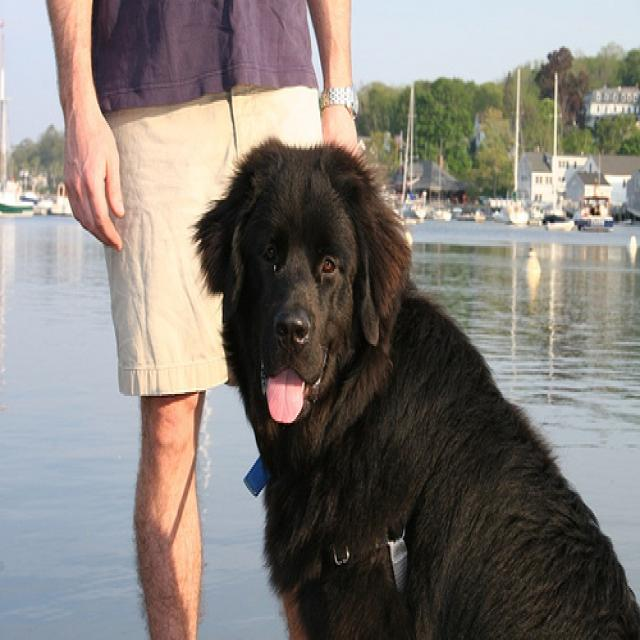dog-newfoundland: (187, 123, 637, 636)
